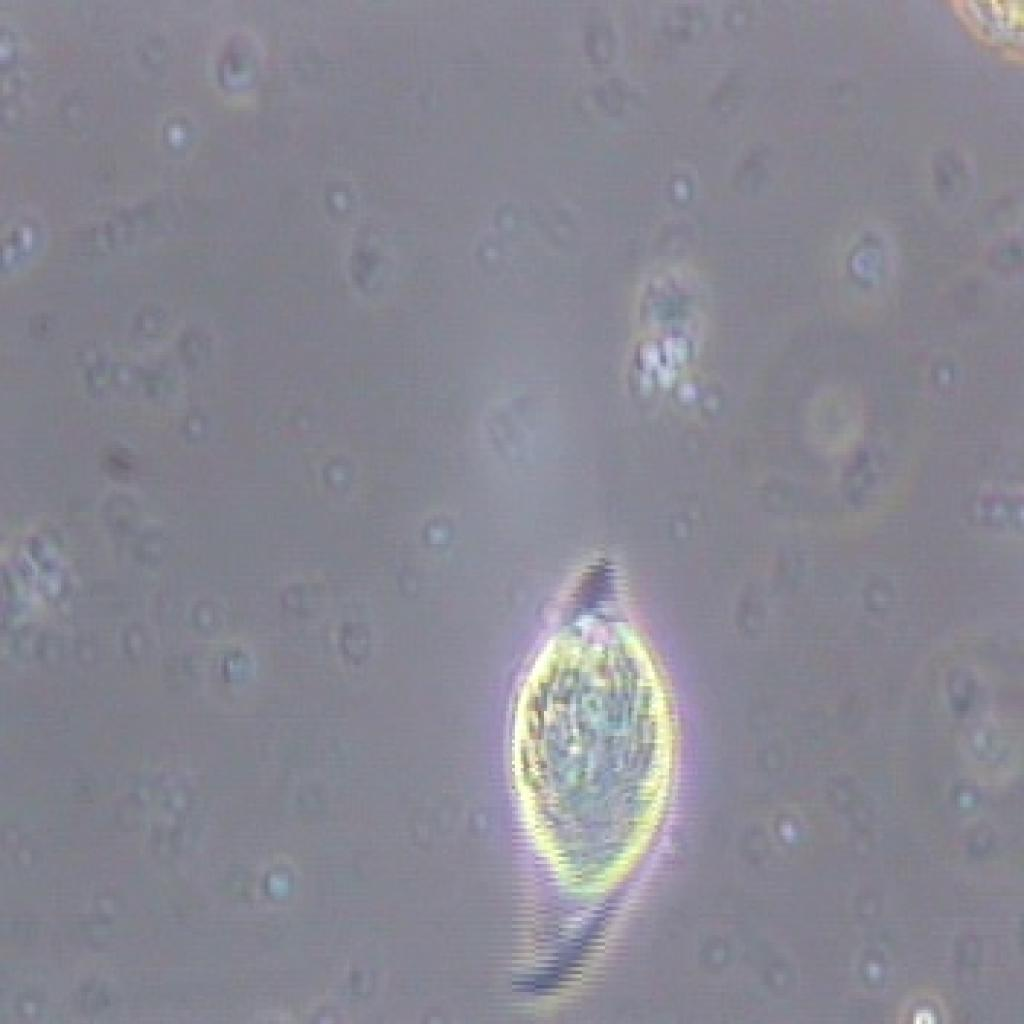Pristina: (442, 486, 701, 1022)
